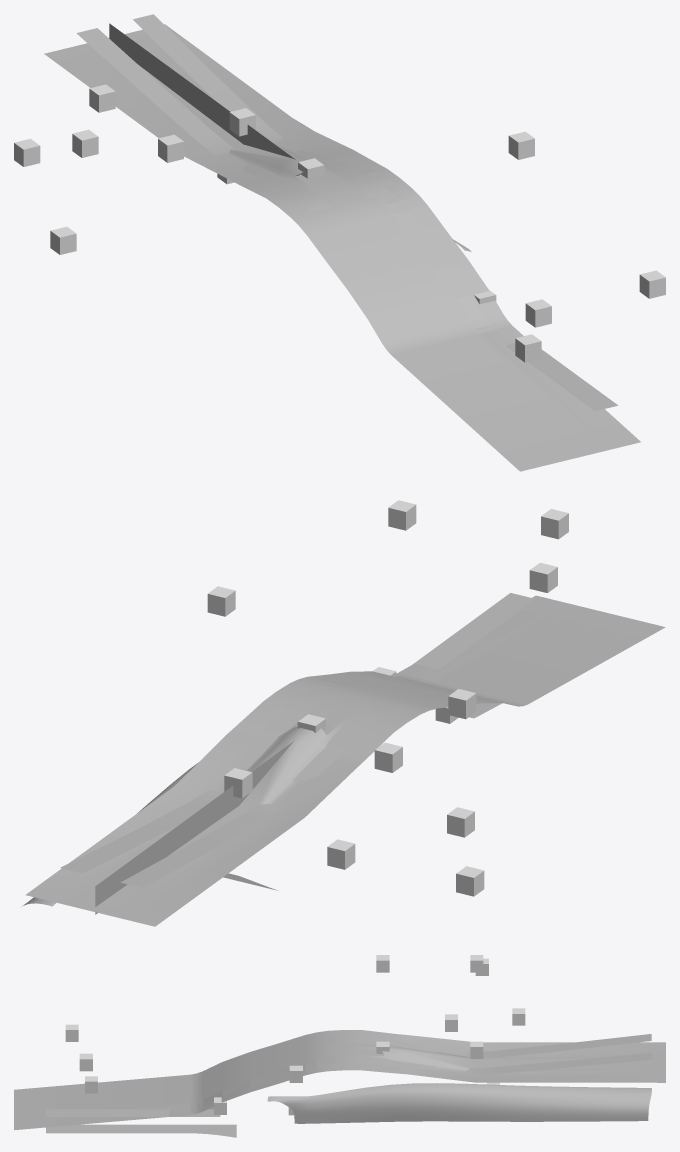
The picture shows the model from 3 angles, top to bottom: view 1: azimuth 30°, elevation 25°; view 2: azimuth 150°, elevation 25°; view 3: azimuth 270°, elevation 25°; orthographic projection. The views are drawn at different scales.
Visible parts, largest first — view 1: AERO_TOP, AERO_FRONT, AERO_ALETTONE, AERO_LAT; view 2: AERO_TOP, AERO_FRONT, AERO_ALETTONE, AERO_LAT, AERO_BACK_CAM_V1, AERO_BACK_CAM_V2, AERO_TOP_CAM_V2, AERO_FRONT_CAM, AERO_LAT_CAM_V1, AERO_LAT_CAM_V2, AERO_TOP_CAM_V3, AERO_END_CAM (+2 smaller); view 3: AERO_TOP, AERO_LAT, AERO_FRONT.
Part boxes in pixels (x1,y1,x2,y2): AERO_TOP: [44, 24, 640, 471]; AERO_FRONT: [76, 14, 390, 212]; AERO_ALETTONE: [109, 23, 297, 176]; AERO_LAT: [294, 119, 618, 411]; AERO_TOP: [25, 595, 665, 926]; AERO_FRONT: [60, 689, 502, 887]; AERO_ALETTONE: [95, 740, 294, 914]; AERO_LAT: [23, 593, 535, 906]; AERO_BACK_CAM_V1: [456, 866, 484, 896]; AERO_BACK_CAM_V2: [327, 839, 355, 869]; AERO_TOP_CAM_V2: [448, 689, 476, 719]; AERO_FRONT_CAM: [529, 562, 557, 592]; AERO_LAT_CAM_V1: [388, 500, 416, 530]; AERO_LAT_CAM_V2: [207, 586, 235, 616]; AERO_TOP_CAM_V3: [374, 742, 402, 772]; AERO_END_CAM: [447, 807, 474, 837]; AERO_TOP: [14, 1030, 665, 1130]; AERO_LAT: [46, 1083, 651, 1137]; AERO_FRONT: [328, 1034, 651, 1075].
Bounding box in the file's own units: 4.51 × 1.96 × 9.91.
1 material, 1 textured.
